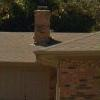Chimney: (27, 1, 61, 52)
